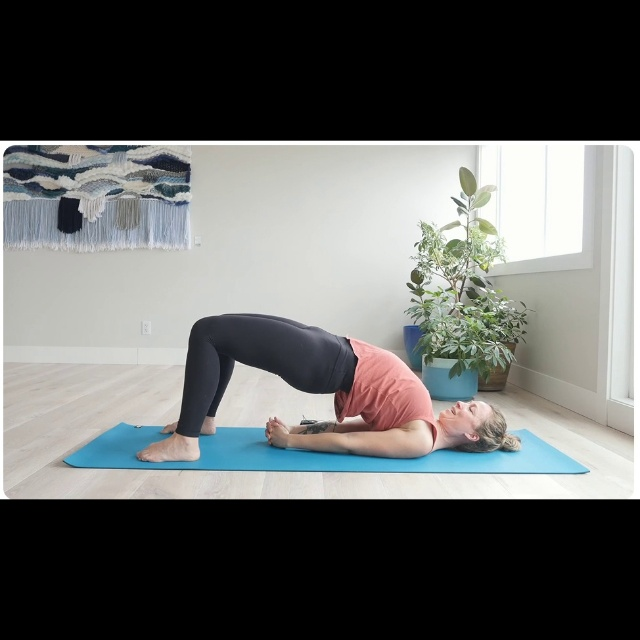Bridge_Pose: (126, 305, 531, 465)
